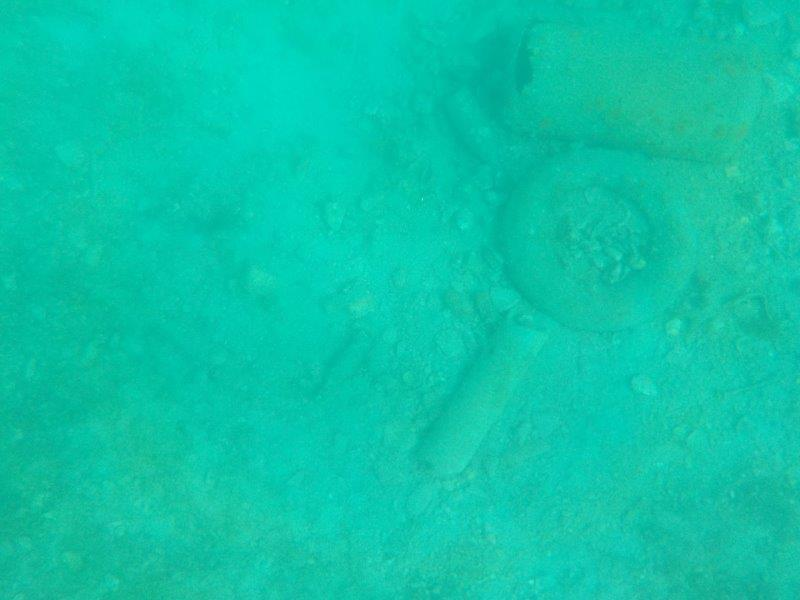bottle: (306, 321, 382, 411), (436, 83, 510, 174)
tire: (492, 140, 706, 335)
